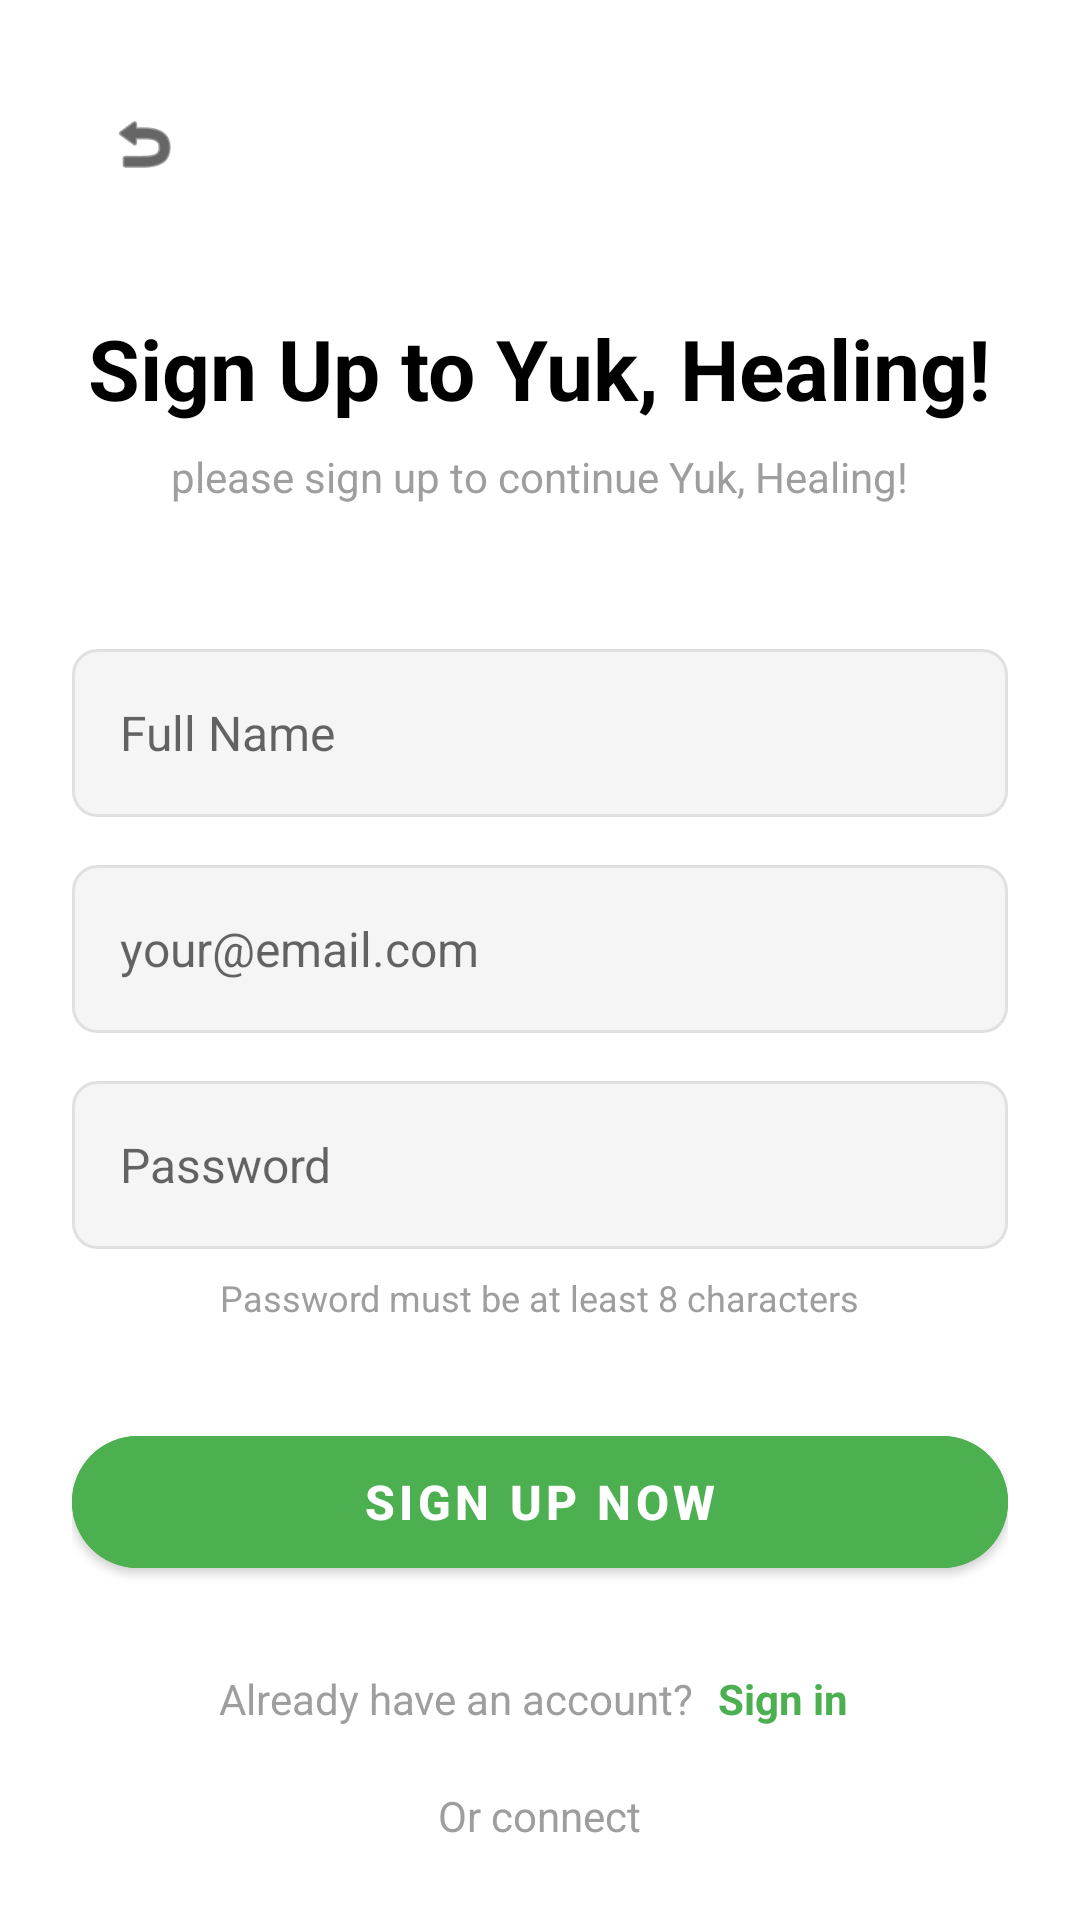

Named icons in this screenshot (1080×1920) and their bounding boxes, (x1, y1, x2, y2):
Back Button: (119, 121, 171, 168)
